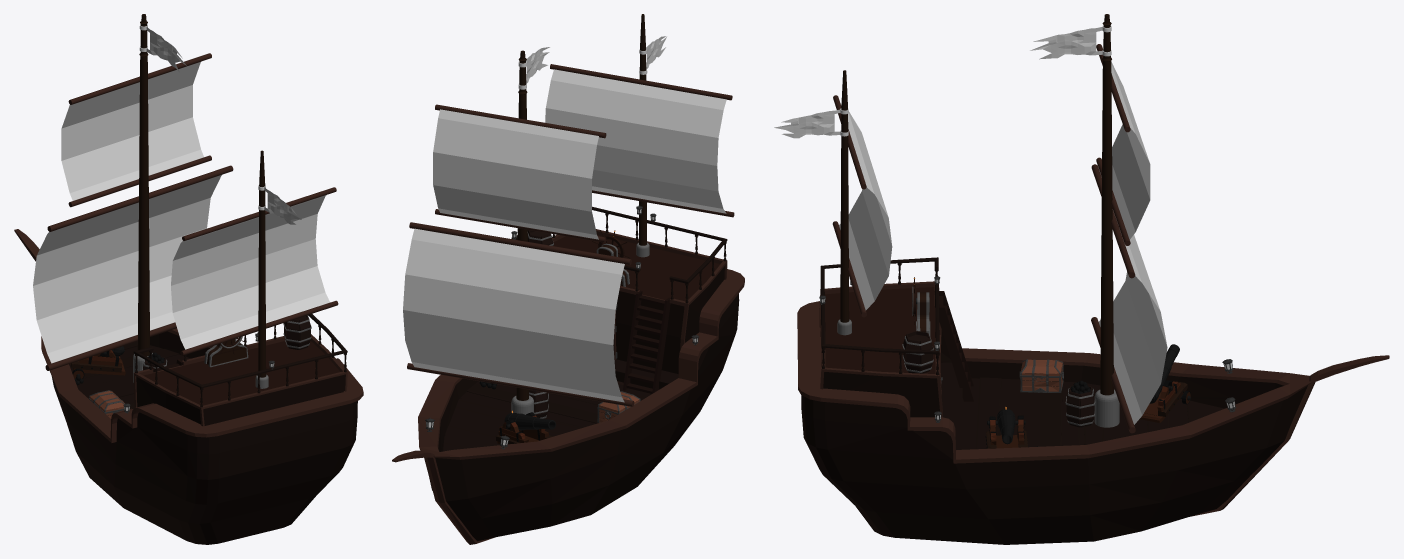
The model's file is boat.obj.
The picture shows the model from 3 angles, left to right: view 1: azimuth 30°, elevation 25°; view 2: azimuth 150°, elevation 25°; view 3: azimuth 270°, elevation 25°; orthographic projection. The views are drawn at different scales.
Visible parts, largest first — view 1: pirate_ship; view 2: pirate_ship; view 3: pirate_ship.
Part boxes in pixels (x1,y1,x2,y2): pirate_ship: (14,14,363,544); pirate_ship: (392,14,744,544); pirate_ship: (774,14,1389,544).
Size of the model in its own units: 4.24 by 9.17 by 9.87.
